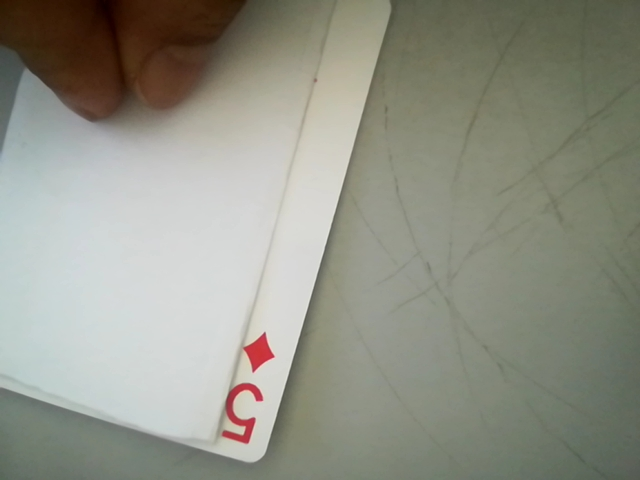fk 5: (212, 328, 284, 453)
